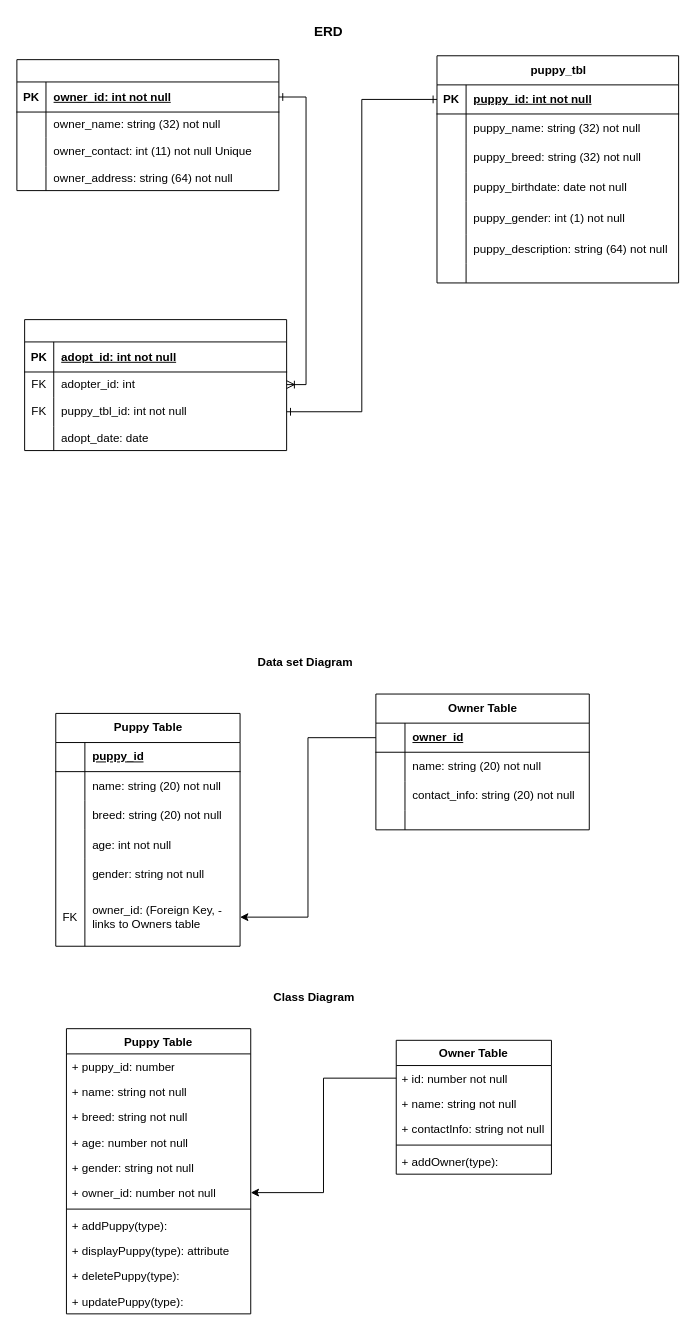
Image size: 696x1333. Some labels were removed from this diagram. The box of each missing label's shape, as (x1, y1, x2, y2) in pixels:
adopt_tbl: (24, 319, 287, 451)
owner_tbl: (16, 59, 279, 191)
